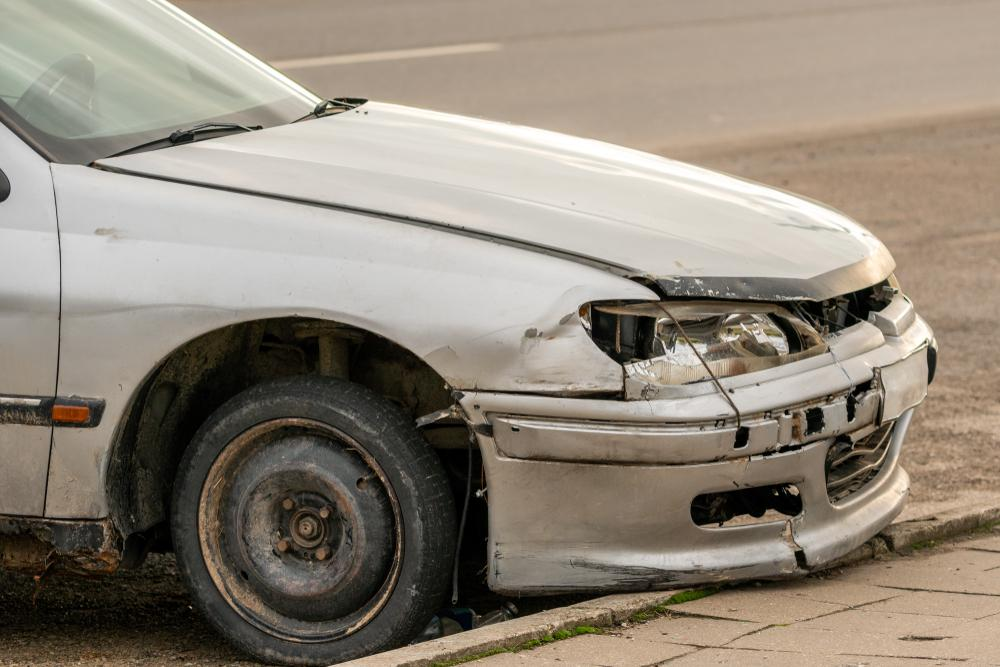crack: (782, 518, 818, 573)
dent: (486, 290, 579, 388)
lamp broken: (581, 299, 825, 384)
scratch: (492, 539, 746, 593)
